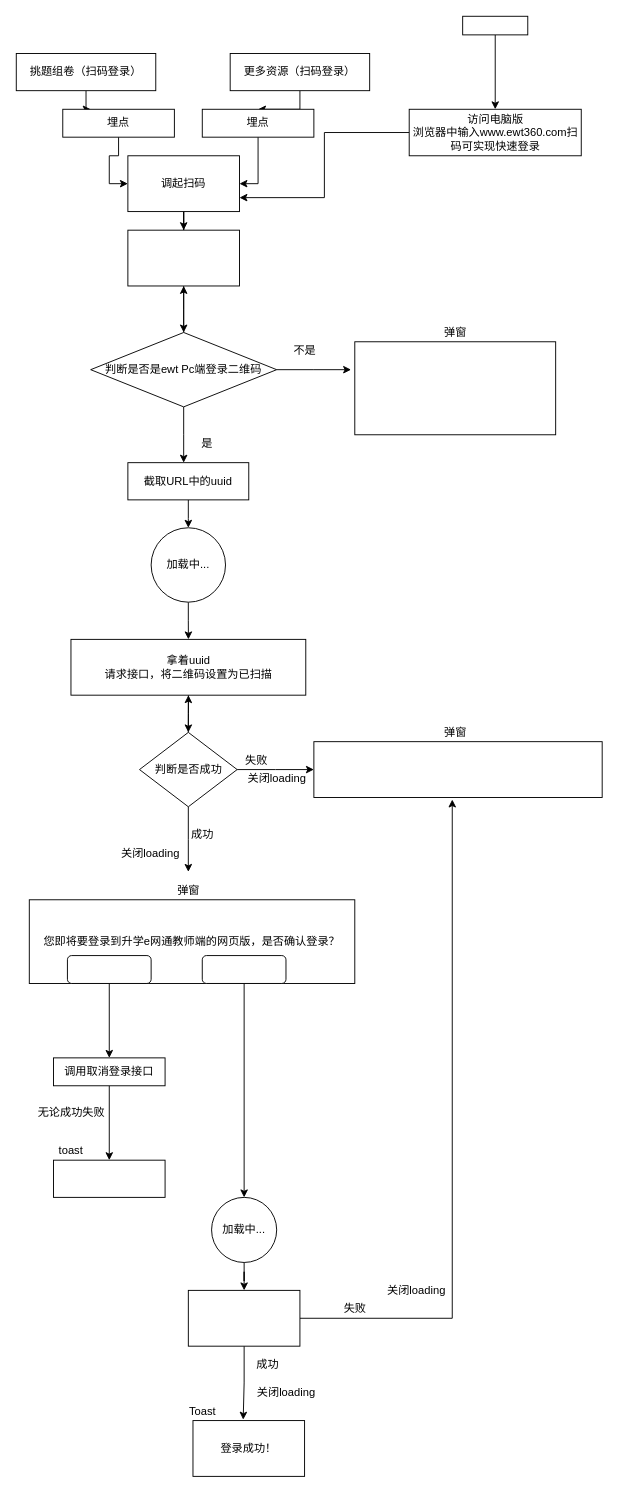
This 618x1493 diagram has some shape labels left out. The centre of each missing label's shape, as x and y in pixels:
"取消登录" goes at (x=108, y=969).
"已取消登录" goes at (x=109, y=1178).
"我的" goes at (x=495, y=25).
"扫码拿到的信息" goes at (x=183, y=257).
"抱歉，您扫码的这个网站/平台不在服务支持范围" goes at (x=455, y=388).
"拿着uuid 请求确认登录接口" goes at (x=243, y=1317).
"显示接口返回的错误信息（msg)" goes at (x=457, y=769).
"确认登录" goes at (x=243, y=969).
